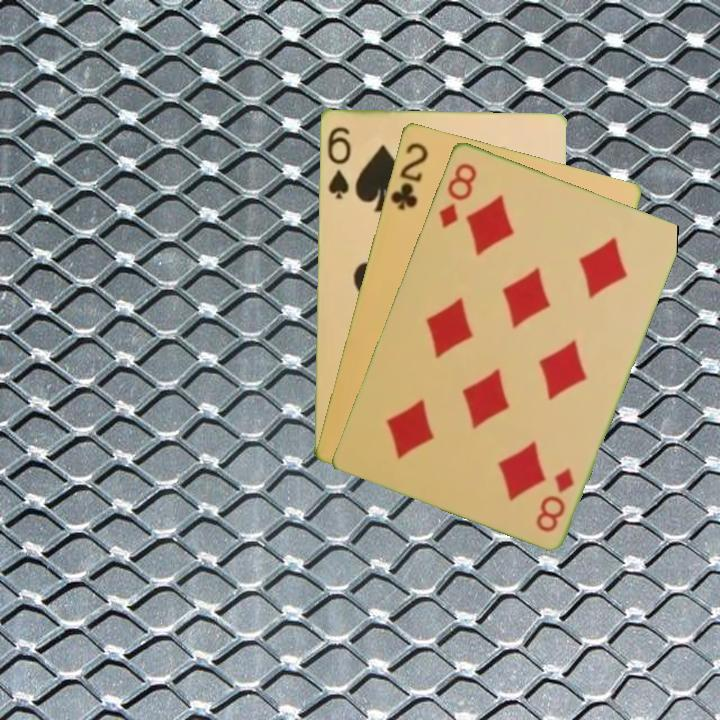2c: (386, 138, 431, 213)
6s: (323, 123, 353, 202)
8d: (435, 158, 480, 231), (532, 463, 577, 535)
